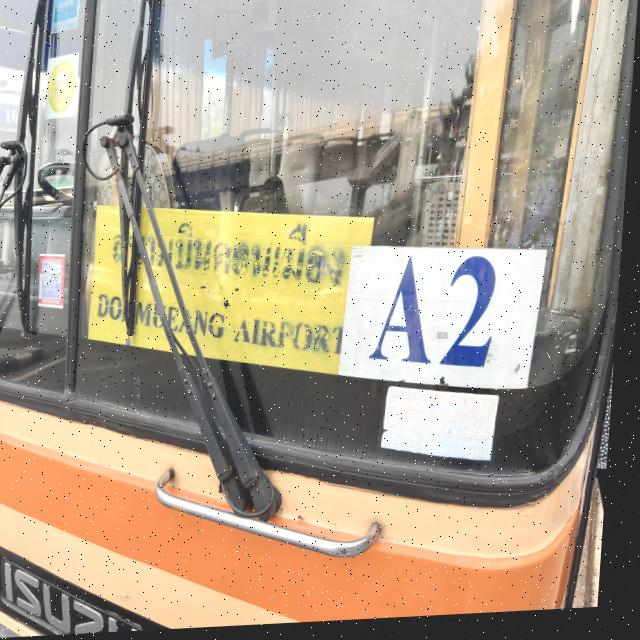BMTA-bus: (0, 0, 640, 640)
Destination-Sign-Normal-Expressway: (91, 192, 382, 389)
